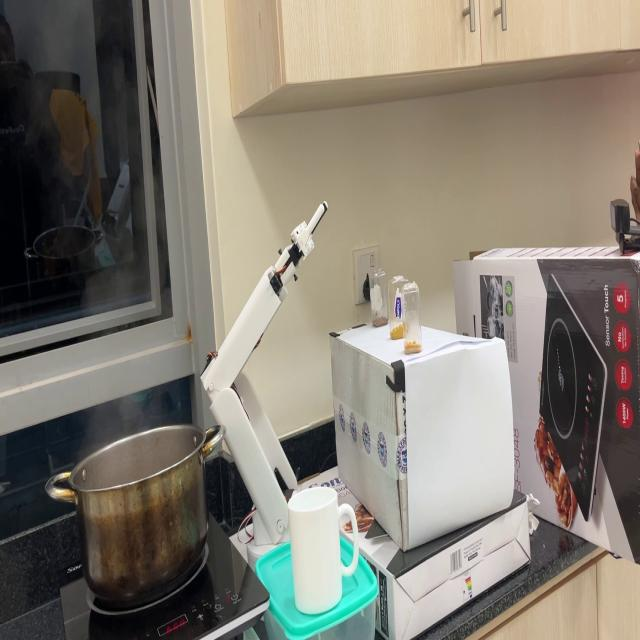cooking_pot: (45, 417, 226, 599)
curry_powder: (391, 324, 409, 342)
garlic_powder: (404, 339, 423, 354)
maggie_open: (371, 313, 388, 328)
